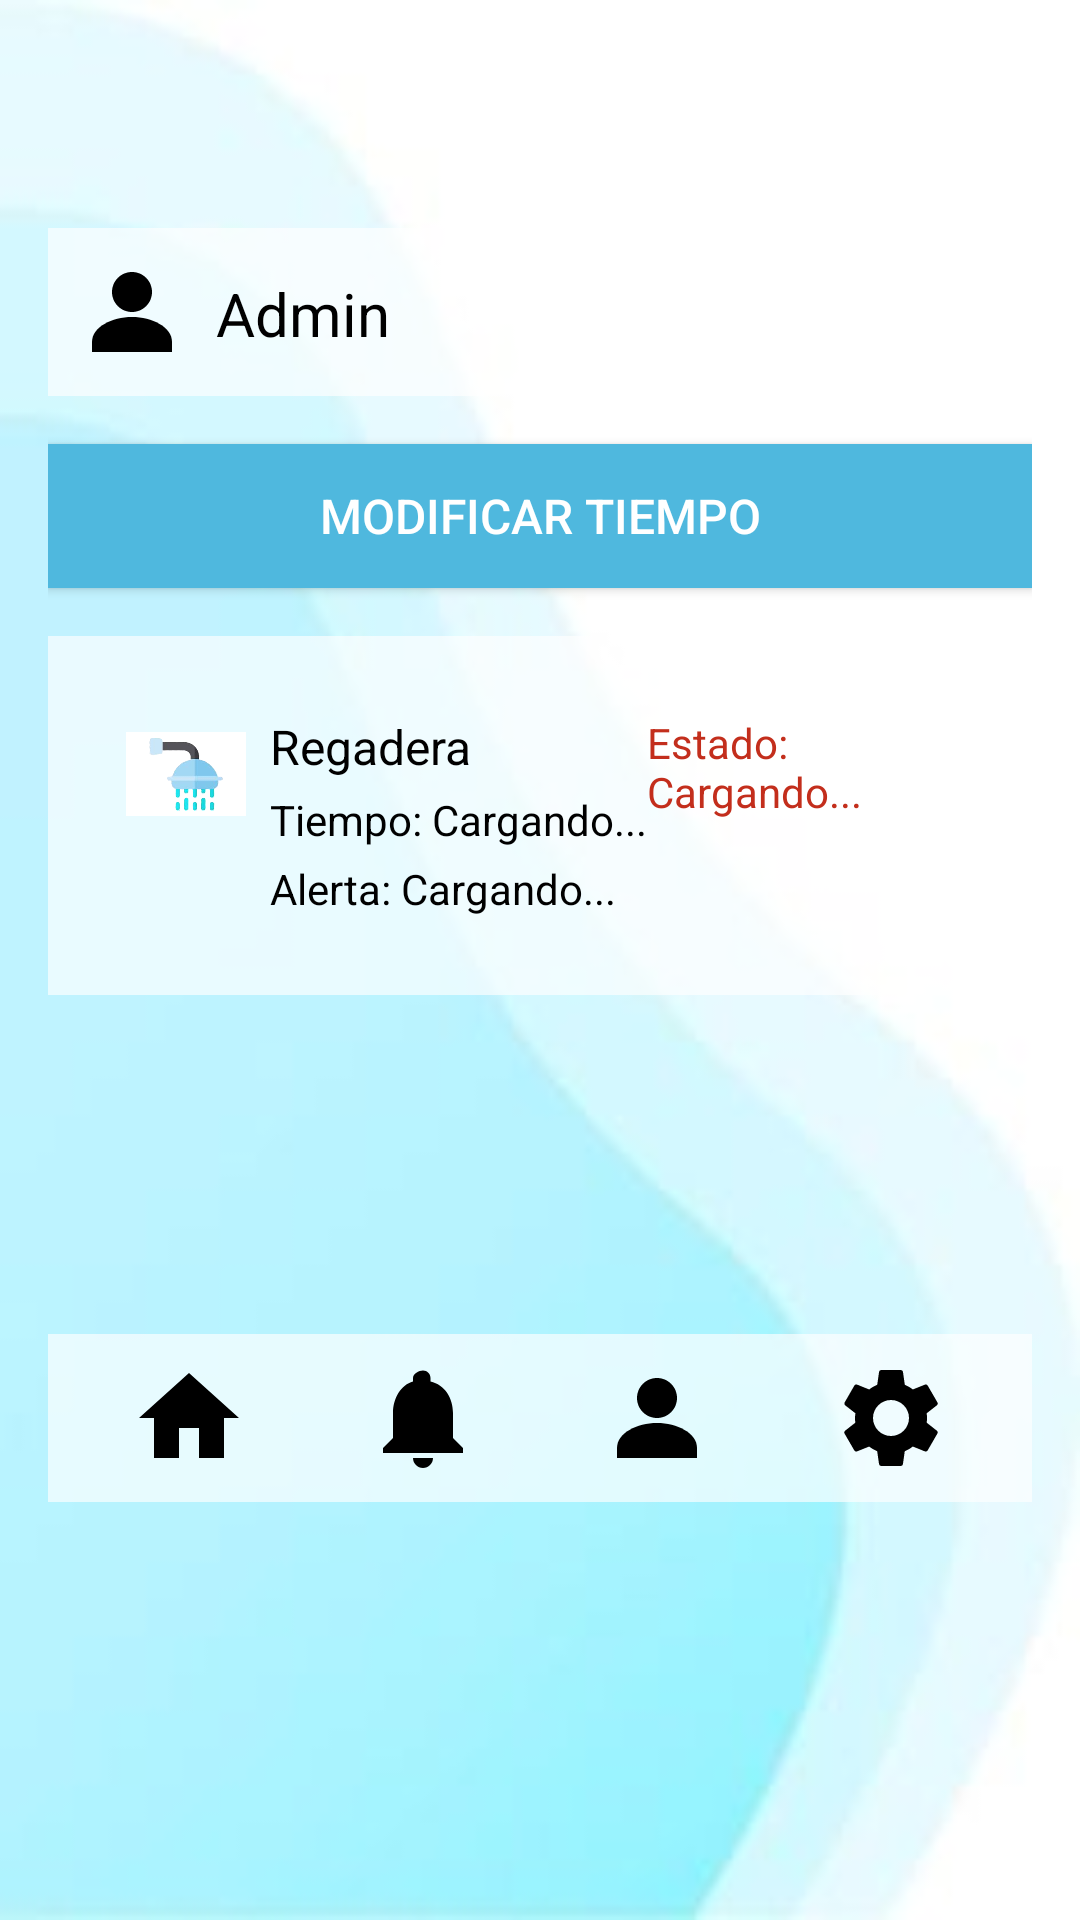

Screen size 1080 x 1920. Icon name, then its box in pixels as (x1, y1, x2, y2):
bell: (383, 1370, 463, 1468)
home: (139, 1373, 239, 1458)
profile: (92, 272, 172, 352), (617, 1378, 697, 1458)
settings: (844, 1370, 938, 1466)
shower: (126, 732, 246, 816)
